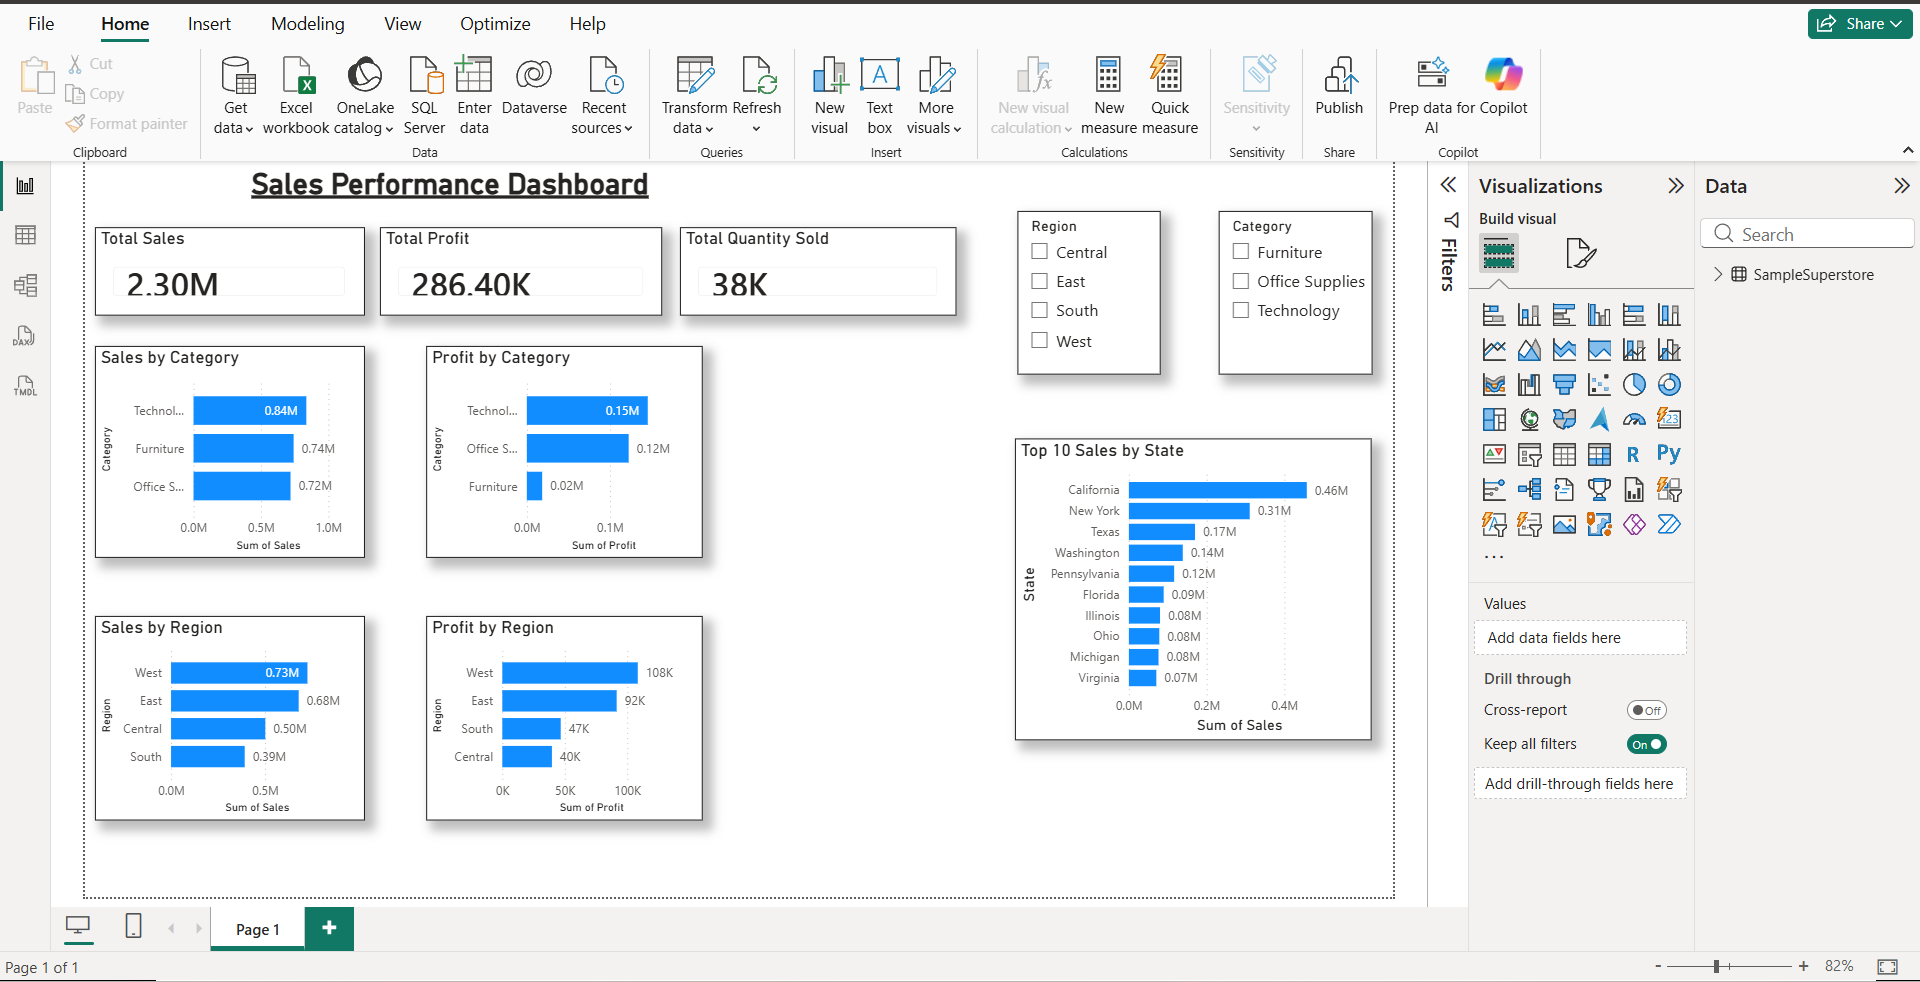

Layout of this report page (visuals, bound fields, positions):
{"tool":"powerbi","page":{"name":"Page 1","canvas":[1280,720],"ordinal":0},"visuals":[{"type":"cardVisual","title":"Total Sales","fields":{"Data":["Sum(SampleSuperstore.Sales)"]},"box":[10,65,263.8,86.2],"z":0},{"type":"cardVisual","title":"Total Profit","fields":{"Data":["Sum(SampleSuperstore.Profit)"]},"box":[288.8,65,276.2,86.2],"z":1},{"type":"cardVisual","title":"Total Quantity Sold","fields":{"Data":["Sum(SampleSuperstore.Quantity)"]},"box":[582.5,65,270,86.2],"z":2},{"type":"clusteredBarChart","title":"Sales by Category","fields":{"Category":["SampleSuperstore.Category"],"Y":["Sum(SampleSuperstore.Sales)"]},"box":[10,181.2,263.8,207.5],"z":3},{"type":"clusteredBarChart","title":"Profit by Category","fields":{"Category":["SampleSuperstore.Category"],"Y":["Sum(SampleSuperstore.Profit)"]},"box":[333.8,181.2,270,207.5],"z":4},{"type":"clusteredBarChart","title":"Sales by Region","fields":{"Category":["SampleSuperstore.Region"],"Y":["Sum(SampleSuperstore.Sales)"]},"box":[10,445,263.8,200],"z":5},{"type":"slicer","fields":{"Values":["SampleSuperstore.Region"]},"box":[912.5,48.8,140,160],"z":6},{"type":"textbox","box":[157.5,0,723.8,48.8],"z":7},{"type":"slicer","fields":{"Values":["SampleSuperstore.Category"]},"box":[1108.8,48.8,150,160],"z":8},{"type":"clusteredBarChart","title":"Top 10 Sales by State","fields":{"Category":["SampleSuperstore.State"],"Y":["Sum(SampleSuperstore.Sales)"]},"box":[910,271.2,348.8,295],"z":9},{"type":"clusteredBarChart","title":"Profit by Region","fields":{"Category":["SampleSuperstore.Region"],"Y":["Sum(SampleSuperstore.Profit)"]},"box":[333.8,445,270,200],"z":10}]}

Visuals, with their boxes on the page's 1280x720 design canvas (x1, y1, x2, y2). These are canvas units, not pixel positions in the 1920x982 screenshot, which may show the page scaled, cropped or inside an application window:
"Total Sales" cardVisual: {"left": 10, "top": 65, "right": 274, "bottom": 151}
"Total Profit" cardVisual: {"left": 289, "top": 65, "right": 565, "bottom": 151}
"Total Quantity Sold" cardVisual: {"left": 582, "top": 65, "right": 852, "bottom": 151}
"Sales by Category" clusteredBarChart: {"left": 10, "top": 181, "right": 274, "bottom": 389}
"Profit by Category" clusteredBarChart: {"left": 334, "top": 181, "right": 604, "bottom": 389}
"Sales by Region" clusteredBarChart: {"left": 10, "top": 445, "right": 274, "bottom": 645}
slicer - SampleSuperstore.Region: {"left": 912, "top": 49, "right": 1052, "bottom": 209}
textbox: {"left": 158, "top": 0, "right": 881, "bottom": 49}
slicer - SampleSuperstore.Category: {"left": 1109, "top": 49, "right": 1259, "bottom": 209}
"Top 10 Sales by State" clusteredBarChart: {"left": 910, "top": 271, "right": 1259, "bottom": 566}
"Profit by Region" clusteredBarChart: {"left": 334, "top": 445, "right": 604, "bottom": 645}
